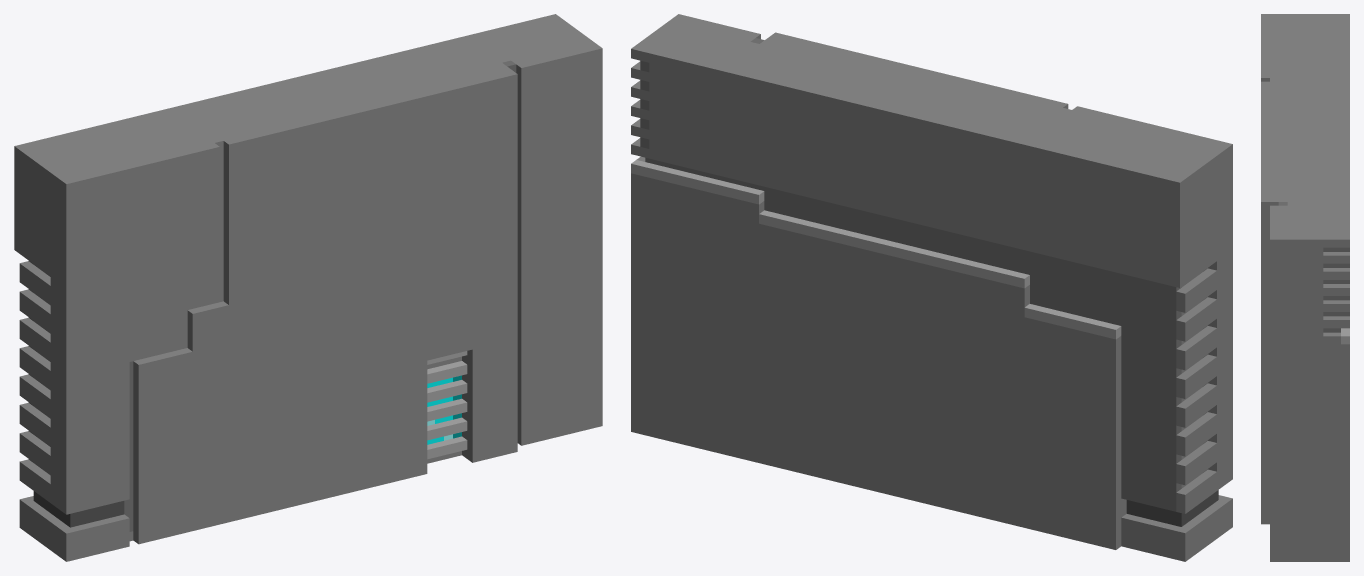
The model's file is Command Wall.obj.
3 renders of one model, left to right at view 1: azimuth 30°, elevation 25°; view 2: azimuth 150°, elevation 25°; view 3: azimuth 270°, elevation 25°, orthographic. The views are drawn at different scales.
Size of the model in its own units: 60 by 40 by 10.
1 material, 1 textured.
